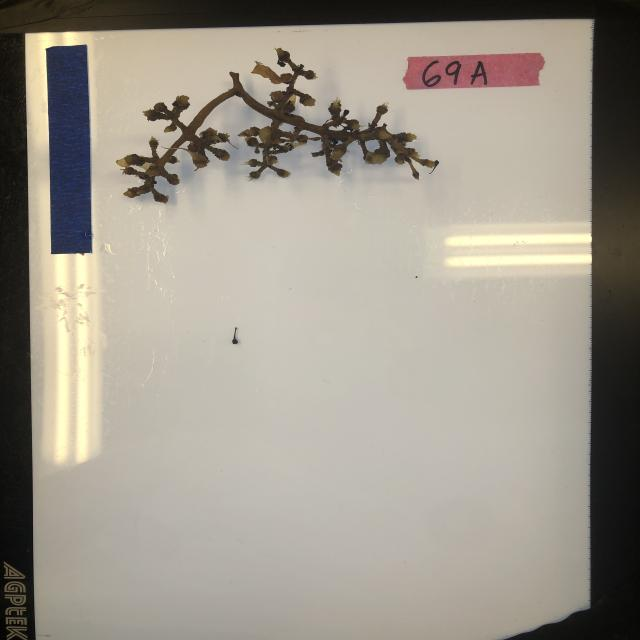index: (404, 51, 544, 91)
measure_label: (45, 44, 94, 255)
rachis_cluster: (114, 44, 440, 206)
